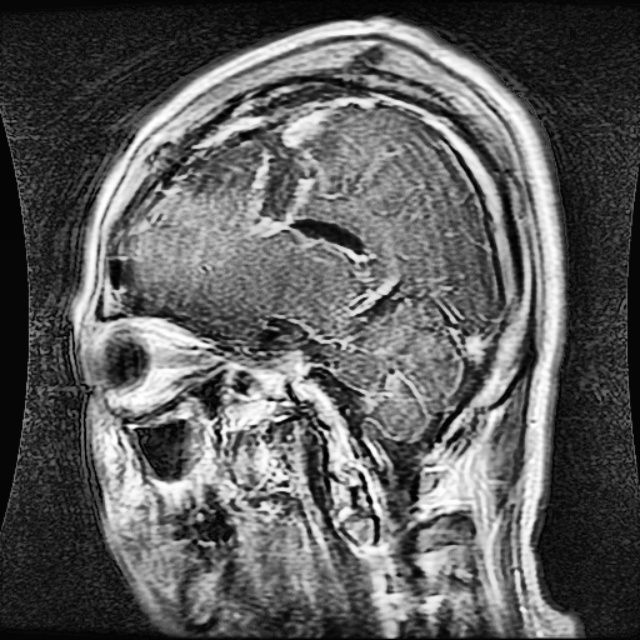Meningioma: (243, 104, 328, 222)
